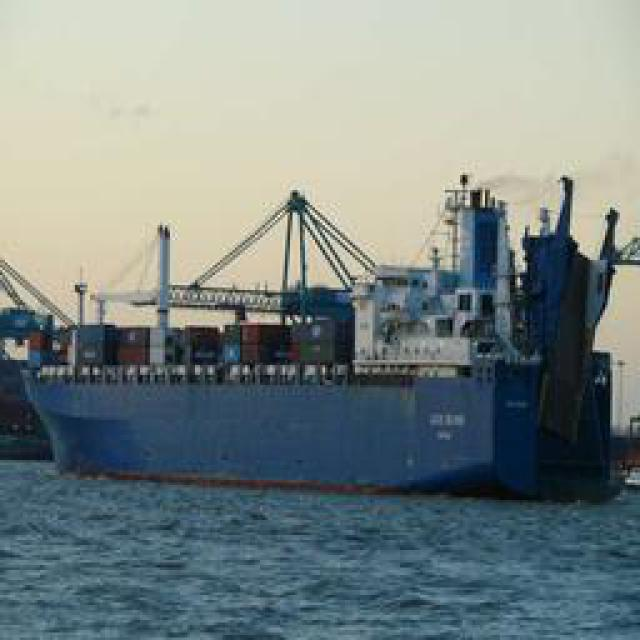Ship: (19, 156, 624, 499)
